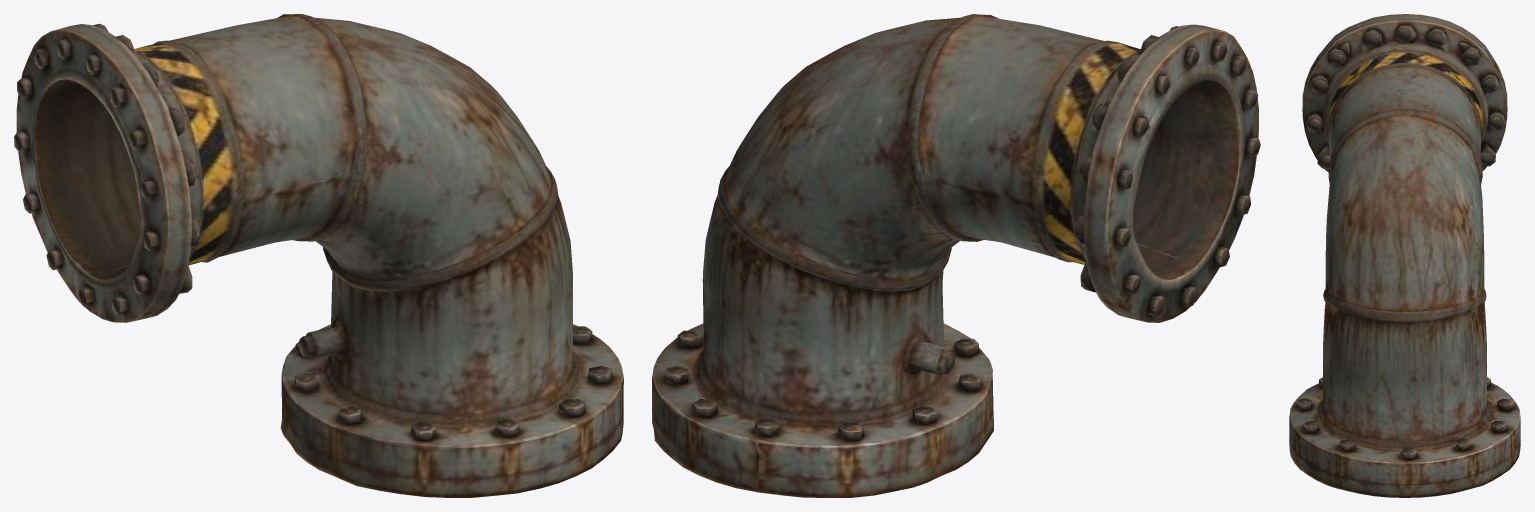
Rendered from reactor-pipe-elbow.glb.
3 renders of one model, left to right at view 1: azimuth 30°, elevation 25°; view 2: azimuth 150°, elevation 25°; view 3: azimuth 270°, elevation 25°, orthographic. The views are drawn at different scales.
Visible parts, largest first — view 1: reactor-pipe-elbow; view 2: reactor-pipe-elbow; view 3: reactor-pipe-elbow.
Boxes of the visible parts, x1,y1,x2,y2 form: reactor-pipe-elbow: [14, 14, 623, 497]; reactor-pipe-elbow: [652, 14, 1260, 497]; reactor-pipe-elbow: [1289, 14, 1520, 497].
Bounding box in the file's own units: 1.8 × 1.57 × 1.03.
1 material, 1 textured.
